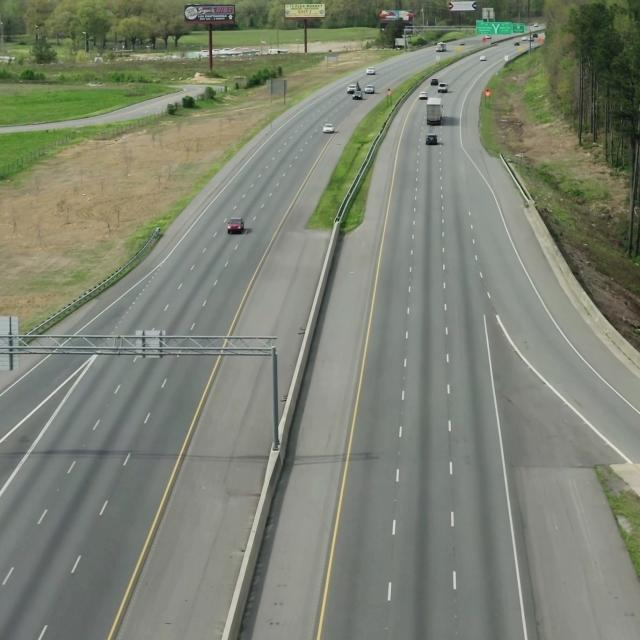Car: (225, 216, 247, 236)
